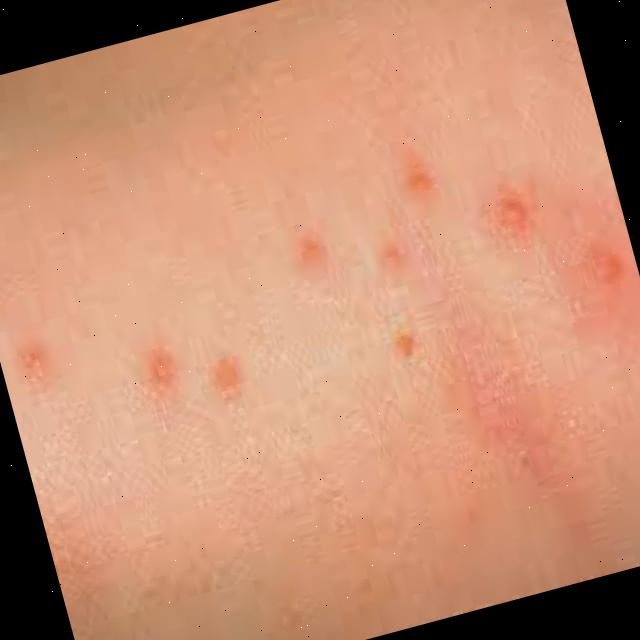tahta-kurusu: (555, 203, 640, 358), (475, 152, 569, 279), (273, 183, 354, 323), (359, 128, 472, 222), (187, 319, 275, 438), (373, 311, 455, 414), (1, 314, 72, 426), (127, 329, 199, 421), (347, 212, 415, 284)
